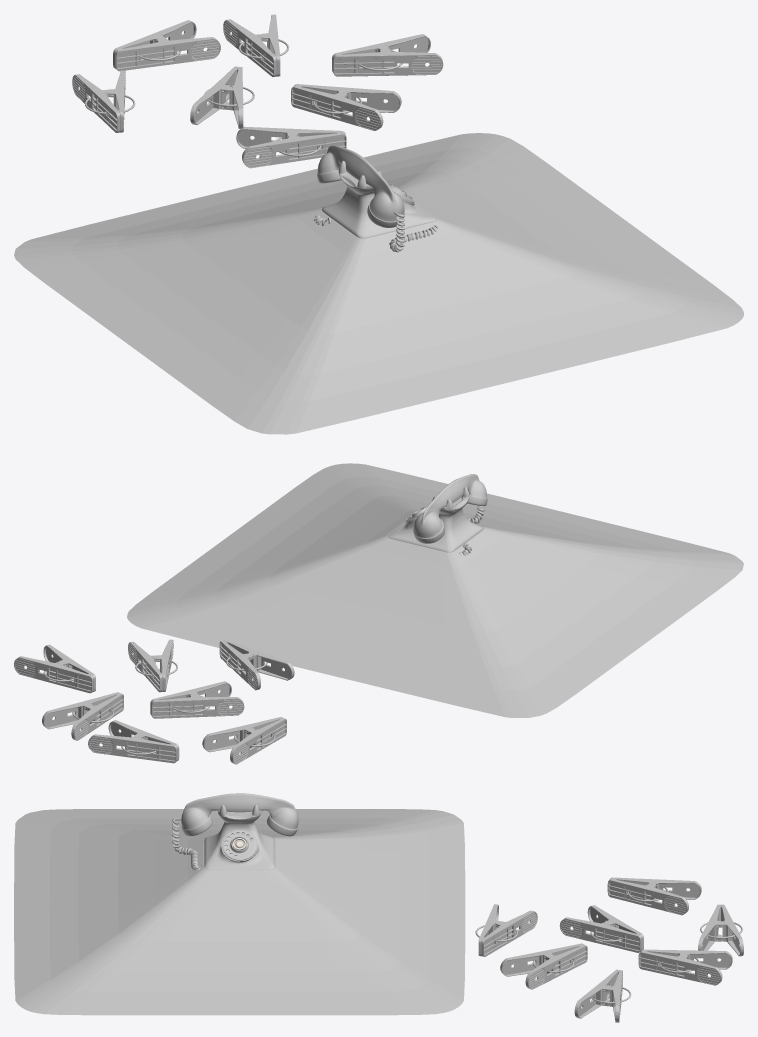
The model's file is TeleMountain_03.FBX.
The picture shows the model from 3 angles, top to bottom: view 1: azimuth 30°, elevation 25°; view 2: azimuth 150°, elevation 25°; view 3: azimuth 270°, elevation 25°; orthographic projection. The views are drawn at different scales.
Visible parts, largest first — view 1: Group_008, Clothespin_04.obj_006, Clothespin_04.obj_001, Clothespin_04.obj_005, Clothespin_04.obj_004, Group_007, Group_005, Clothespin_04.obj_002, Clothespin_04.obj_003, Clothespin_04.obj_007, Group_009; view 2: Group_008, Clothespin_04.obj_003, Clothespin_04.obj_004, Clothespin_04.obj_007, Clothespin_04.obj_002, Clothespin_04.obj_006, Group_007, Clothespin_04.obj_005, Group_005, Clothespin_04.obj_001; view 3: Group_008, Group_007, Clothespin_04.obj_002, Clothespin_04.obj_007, Clothespin_04.obj_001, Clothespin_04.obj_003, Group_005, Clothespin_04.obj_005, Clothespin_04.obj_006, Clothespin_04.obj_004, Group_001, Phone_final_top_Plane.014_001 (+1 smaller).
Part boxes in pixels (x1=…): Group_008: x1=14, y1=133, x2=743, y2=434; Clothespin_04.obj_006: x1=332, y1=34, x2=443, y2=76; Clothespin_04.obj_001: x1=291, y1=84, x2=401, y2=130; Clothespin_04.obj_005: x1=236, y1=126, x2=346, y2=168; Clothespin_04.obj_004: x1=113, y1=20, x2=220, y2=71; Group_007: x1=317, y1=145, x2=404, y2=227; Group_005: x1=321, y1=186, x2=435, y2=238; Clothespin_04.obj_002: x1=223, y1=14, x2=289, y2=77; Clothespin_04.obj_003: x1=190, y1=66, x2=254, y2=128; Clothespin_04.obj_007: x1=72, y1=70, x2=135, y2=132; Group_009: x1=313, y1=211, x2=438, y2=252; Group_008: x1=127, y1=463, x2=743, y2=717; Clothespin_04.obj_003: x1=150, y1=681, x2=244, y2=718; Clothespin_04.obj_004: x1=88, y1=720, x2=179, y2=763; Clothespin_04.obj_007: x1=202, y1=717, x2=286, y2=764; Clothespin_04.obj_002: x1=42, y1=692, x2=123, y2=740; Clothespin_04.obj_006: x1=14, y1=644, x2=95, y2=693; Group_007: x1=413, y1=474, x2=487, y2=543; Clothespin_04.obj_005: x1=219, y1=639, x2=294, y2=690; Group_005: x1=387, y1=508, x2=483, y2=552; Clothespin_04.obj_001: x1=128, y1=639, x2=177, y2=692; Group_008: x1=14, y1=809, x2=465, y2=1015; Group_007: x1=181, y1=793, x2=298, y2=836; Clothespin_04.obj_002: x1=638, y1=949, x2=732, y2=985; Clothespin_04.obj_007: x1=607, y1=877, x2=701, y2=915; Clothespin_04.obj_001: x1=500, y1=943, x2=587, y2=989; Clothespin_04.obj_003: x1=559, y1=905, x2=643, y2=952; Group_005: x1=204, y1=821, x2=274, y2=869; Clothespin_04.obj_005: x1=475, y1=904, x2=537, y2=956; Clothespin_04.obj_006: x1=574, y1=969, x2=631, y2=1022; Clothespin_04.obj_004: x1=698, y1=904, x2=743, y2=956; Group_001: x1=222, y1=830, x2=257, y2=860; Phone_final_top_Plane.014_001: x1=218, y1=805, x2=261, y2=823.
Bounding box in the file's own units: 17.21 × 4.12 × 24.53.
